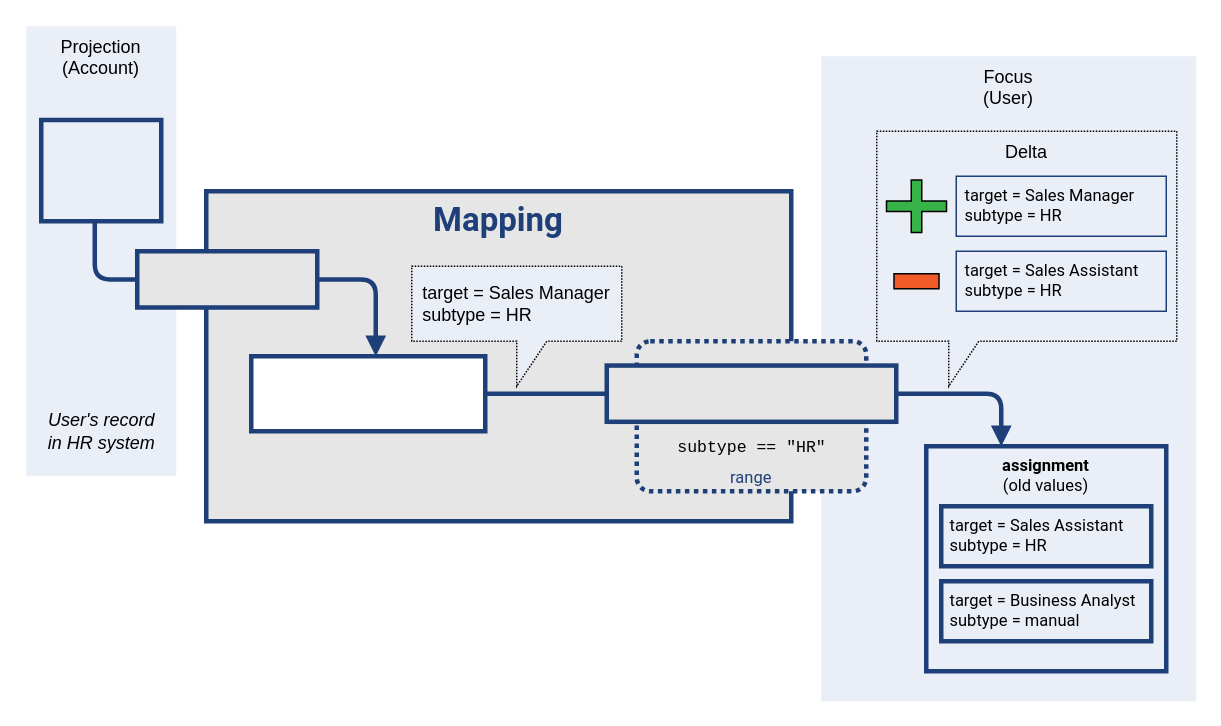
Some shapes in this 1221 by 726 pixel diagram are drawn without their labels. The centre of each missing label's shape, as x and y in pixels:
Expression assignmentTargetSearch: point (367, 393)
jobCode (new value) 30054: point (100, 170)
Source attributes/jobCode: point (226, 278)
Target assignment: point (751, 393)
